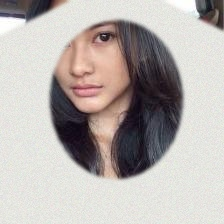Mukena: (4, 27, 224, 224)
